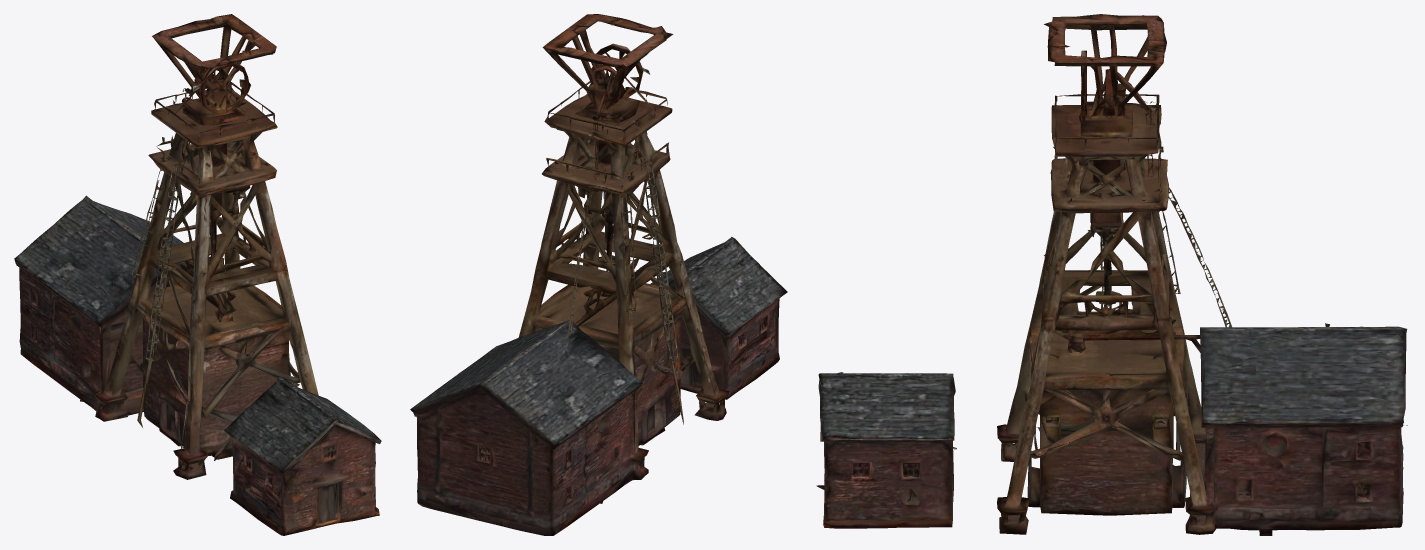
File: ore-headframe.glb
3 views of the same model, side by side, from view 1: azimuth 30°, elevation 25°; view 2: azimuth 150°, elevation 25°; view 3: azimuth 270°, elevation 25° (orthographic). The views are drawn at different scales.
Visible parts, largest first — view 1: tripo_node_34f79631-9ebd-4c71-962f-31a3729eda80; view 2: tripo_node_34f79631-9ebd-4c71-962f-31a3729eda80; view 3: tripo_node_34f79631-9ebd-4c71-962f-31a3729eda80.
Boxes of the visible parts, bbox=[...] form: tripo_node_34f79631-9ebd-4c71-962f-31a3729eda80: bbox=[14, 14, 381, 535]; tripo_node_34f79631-9ebd-4c71-962f-31a3729eda80: bbox=[410, 14, 787, 535]; tripo_node_34f79631-9ebd-4c71-962f-31a3729eda80: bbox=[816, 14, 1407, 535].
Size of the model in its own units: 0.337 by 0.8424 by 0.9775.
1 material, 1 textured.
